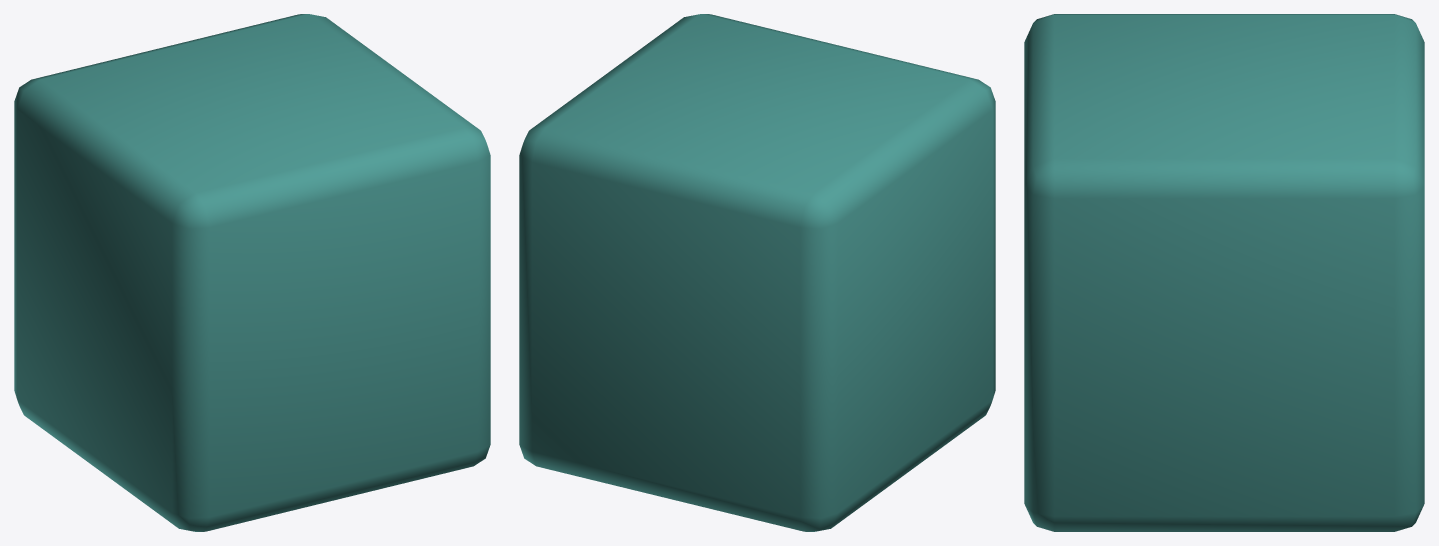
File: token_cube.glb
3 renders of one model, left to right at view 1: azimuth 30°, elevation 25°; view 2: azimuth 150°, elevation 25°; view 3: azimuth 270°, elevation 25°, orthographic. The views are drawn at different scales.
Visible parts, largest first — view 1: Token_Body.001; view 2: Token_Body.001; view 3: Token_Body.001.
Boxes of the visible parts, x1,y1,x2,y2 form: Token_Body.001: (14,14,490,531); Token_Body.001: (519,14,995,531); Token_Body.001: (1024,14,1424,531).
Size of the model in its own units: 0.2924 by 0.3 by 0.2924.
